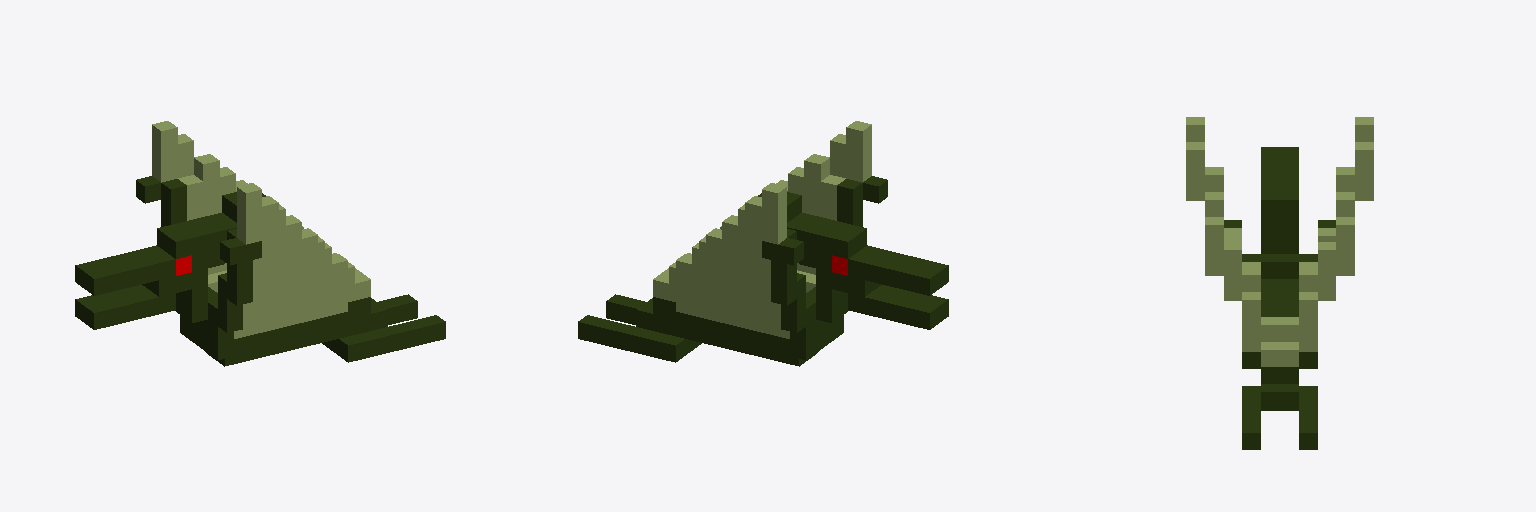
The picture shows the model from 3 angles: view 1: azimuth 30°, elevation 25°; view 2: azimuth 150°, elevation 25°; view 3: azimuth 270°, elevation 25°; orthographic projection.
Bounding box in the file's own units: 21 × 13 × 10.
Materials: 1 (1 with a texture image).